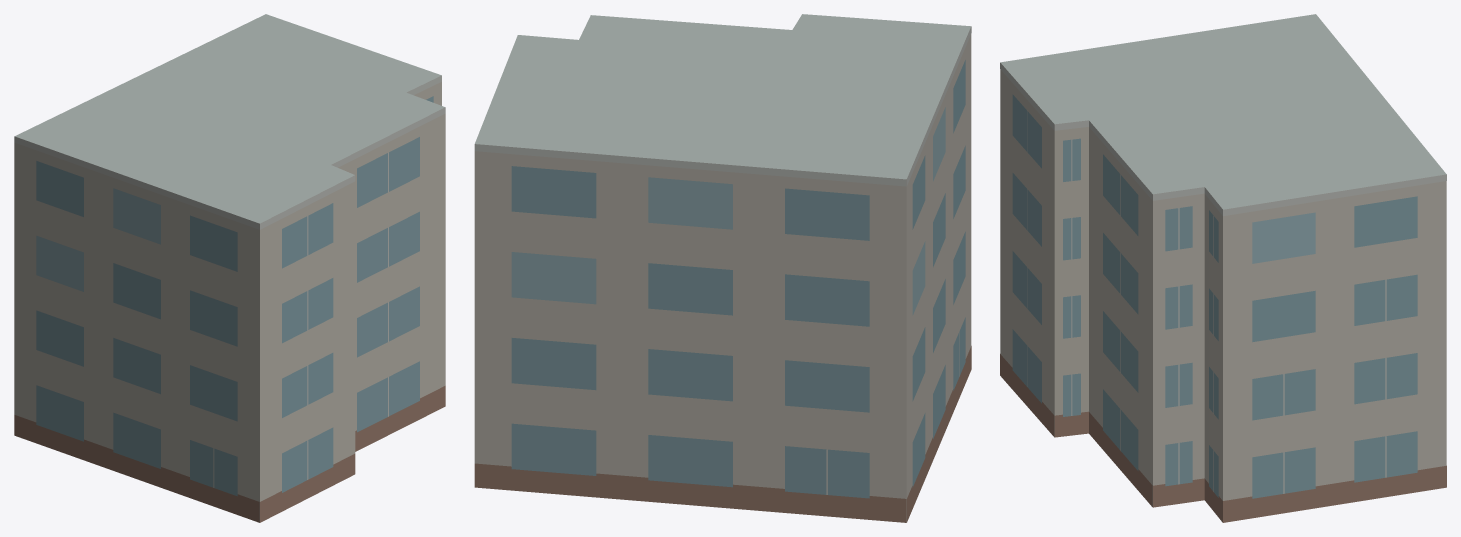
File: survey-upis-32865628.glb
The picture shows the model from 3 angles, left to right: view 1: azimuth 30°, elevation 25°; view 2: azimuth 150°, elevation 25°; view 3: azimuth 270°, elevation 25°; orthographic projection. The views are drawn at different scales.
Visible parts, largest first — view 1: survey-upis-32865628.tmp; view 2: survey-upis-32865628.tmp; view 3: survey-upis-32865628.tmp.
Part boxes in pixels (x1,y1,x2,y2): survey-upis-32865628.tmp: [14, 14, 445, 522]; survey-upis-32865628.tmp: [474, 14, 971, 522]; survey-upis-32865628.tmp: [1000, 14, 1446, 522].
Size of the model in its own units: 15.69 by 11.7 by 15.13.
